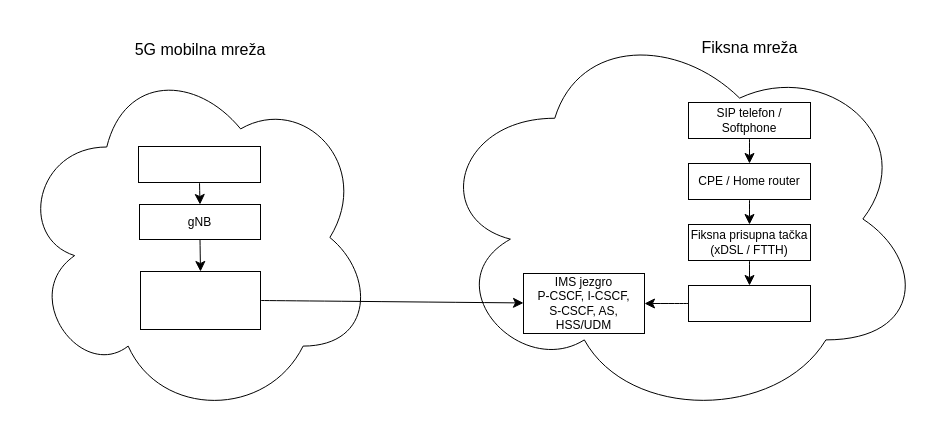
Some shapes in this 942 by 438 pixel diagram are drawn without their labels. The centre of each missing label's shape, as x and y in pixels:
"5G Core (5GC) AMF/SMF/UPF" goes at (x=200, y=300).
"5G UE (VoNR telefon)" goes at (x=199, y=164).
"AGF / BNG Fixed Access Gateway" goes at (x=749, y=303).
